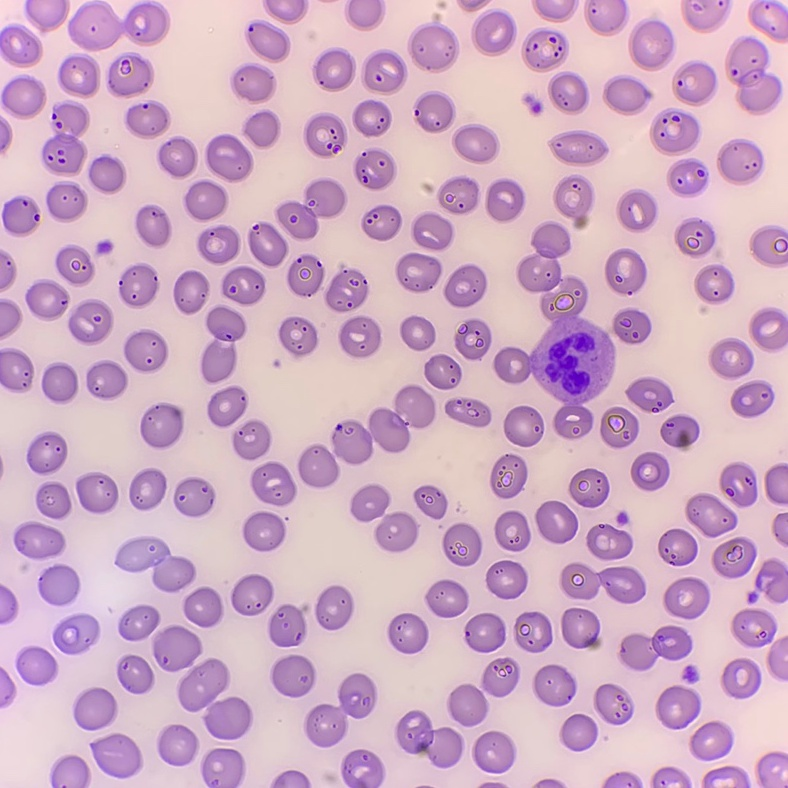RBC: (493, 221, 615, 438), (331, 385, 435, 464), (177, 659, 252, 738), (305, 673, 376, 746), (68, 1, 169, 50), (350, 484, 418, 551), (726, 36, 782, 114), (276, 178, 346, 239), (395, 711, 462, 766), (42, 100, 89, 174), (201, 305, 245, 383), (561, 563, 644, 603), (620, 626, 690, 670), (629, 18, 675, 70), (408, 23, 458, 70), (651, 108, 700, 154), (152, 625, 202, 670), (92, 733, 142, 777), (205, 135, 252, 181), (717, 139, 763, 184), (106, 52, 153, 96), (554, 175, 593, 228), (686, 493, 734, 536), (250, 461, 296, 505), (673, 60, 717, 105), (522, 28, 568, 71), (550, 130, 606, 165), (472, 11, 516, 55), (362, 50, 406, 94), (69, 299, 112, 344), (141, 403, 183, 449), (270, 654, 315, 696), (14, 521, 65, 558), (124, 329, 167, 372), (304, 113, 346, 157), (604, 75, 651, 114), (313, 48, 355, 91), (656, 685, 698, 728), (74, 687, 117, 729), (58, 53, 99, 97), (605, 249, 646, 293), (324, 270, 368, 311), (664, 577, 708, 618), (675, 218, 721, 257), (444, 265, 486, 307), (535, 501, 577, 543), (246, 20, 289, 61), (298, 444, 339, 487), (1, 78, 45, 118), (709, 338, 753, 378), (453, 124, 498, 163), (396, 253, 441, 292), (354, 148, 396, 189), (185, 180, 227, 221), (76, 472, 118, 513), (231, 574, 273, 615), (533, 665, 576, 705), (231, 63, 275, 102), (248, 223, 287, 267), (339, 316, 380, 357), (447, 684, 488, 725), (157, 724, 198, 765), (472, 731, 513, 772), (26, 280, 68, 320), (243, 511, 285, 551), (712, 537, 754, 577), (221, 266, 264, 305), (202, 748, 245, 787), (120, 263, 158, 307), (54, 615, 98, 653), (124, 101, 169, 138), (117, 537, 167, 570), (548, 72, 588, 113), (207, 386, 247, 427), (561, 608, 601, 649), (486, 179, 525, 221), (617, 189, 656, 231), (28, 432, 67, 474), (315, 586, 353, 629), (750, 307, 787, 351), (0, 27, 41, 66), (415, 91, 454, 132), (157, 137, 196, 178), (174, 477, 215, 516), (411, 212, 453, 250), (197, 226, 239, 264), (443, 523, 481, 565), (268, 604, 306, 646), (425, 580, 468, 617), (341, 750, 384, 787), (490, 454, 526, 498), (720, 462, 756, 506), (47, 181, 86, 221), (87, 360, 127, 399), (183, 587, 223, 626), (388, 613, 427, 653), (438, 176, 479, 214), (750, 225, 787, 267), (732, 609, 774, 646), (627, 377, 672, 411), (586, 525, 631, 559), (695, 264, 734, 303), (232, 420, 271, 459), (56, 245, 94, 285), (279, 317, 317, 357), (504, 406, 542, 446), (600, 407, 638, 447), (731, 380, 772, 417), (129, 468, 166, 509), (153, 556, 195, 592), (749, 1, 787, 40), (569, 469, 608, 507), (465, 613, 504, 651), (721, 658, 759, 697), (287, 255, 324, 295), (486, 561, 526, 598), (41, 564, 78, 604), (17, 647, 57, 684), (690, 721, 730, 758), (174, 271, 209, 313), (667, 158, 705, 196), (481, 658, 519, 696), (514, 612, 551, 651), (117, 654, 154, 693), (594, 684, 631, 723), (684, 0, 732, 30), (136, 205, 171, 246), (119, 605, 160, 640), (243, 110, 280, 148), (631, 452, 668, 490), (89, 154, 125, 193), (455, 319, 490, 359), (42, 363, 77, 403), (0, 349, 33, 391), (658, 529, 696, 565), (362, 205, 401, 240), (585, 0, 625, 34), (26, 0, 69, 31), (756, 559, 787, 602), (353, 100, 390, 136), (3, 198, 38, 236), (612, 308, 650, 343), (36, 481, 71, 519), (495, 511, 529, 550), (560, 714, 596, 750), (661, 414, 698, 449), (51, 754, 90, 787), (445, 398, 490, 426), (424, 355, 460, 389), (400, 316, 435, 350), (345, 0, 384, 29), (414, 485, 446, 518), (263, 0, 307, 23), (533, 0, 576, 21), (765, 464, 787, 504), (0, 300, 21, 338), (768, 637, 787, 679), (651, 767, 685, 787), (758, 762, 785, 787), (271, 770, 309, 787), (0, 586, 17, 622), (0, 251, 15, 290), (0, 669, 15, 705), (604, 772, 638, 787), (725, 766, 747, 787), (773, 513, 787, 545), (0, 119, 11, 153), (524, 94, 542, 113), (459, 0, 486, 10), (536, 779, 563, 787), (768, 752, 787, 763), (683, 665, 696, 679), (97, 242, 111, 254), (617, 513, 627, 523), (483, 783, 502, 787), (747, 593, 755, 601), (703, 782, 711, 787)
